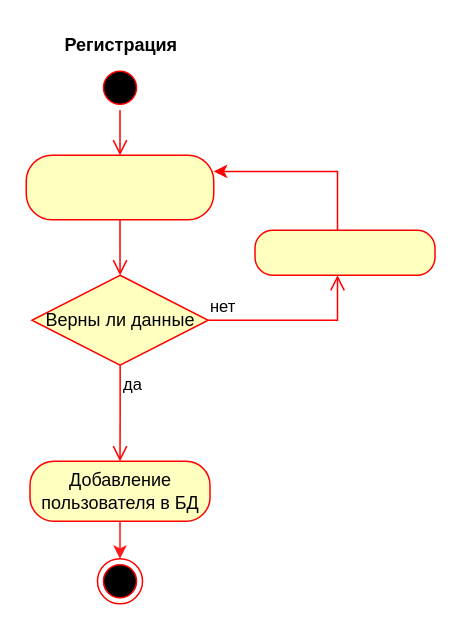
This 462x630 diagram has some shape labels left out. Each missing label, with the centre of its shape:
"Вывод ошибки" goes at pixel 344 252.
"Заполнение формы регистрации" goes at pixel 119 187.
